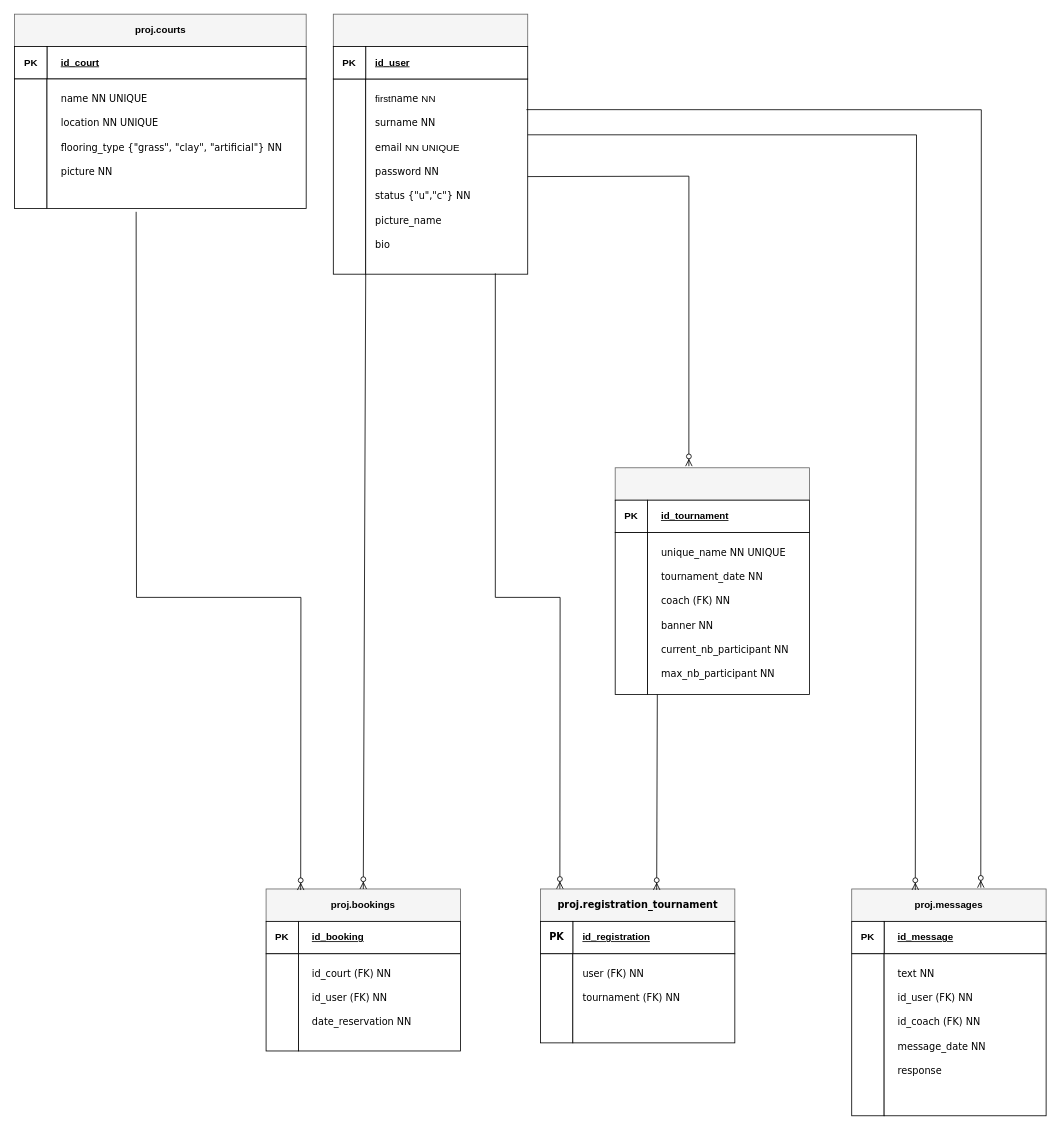
Image size: 1060x1130. Some labels were removed from this diagram. The shapes that lost their labels are listed below. From the top down, each one's centre as x and y in pixels, then its label:
At point (430, 30): "proj.users".
At point (712, 483): "proj.tournaments".
